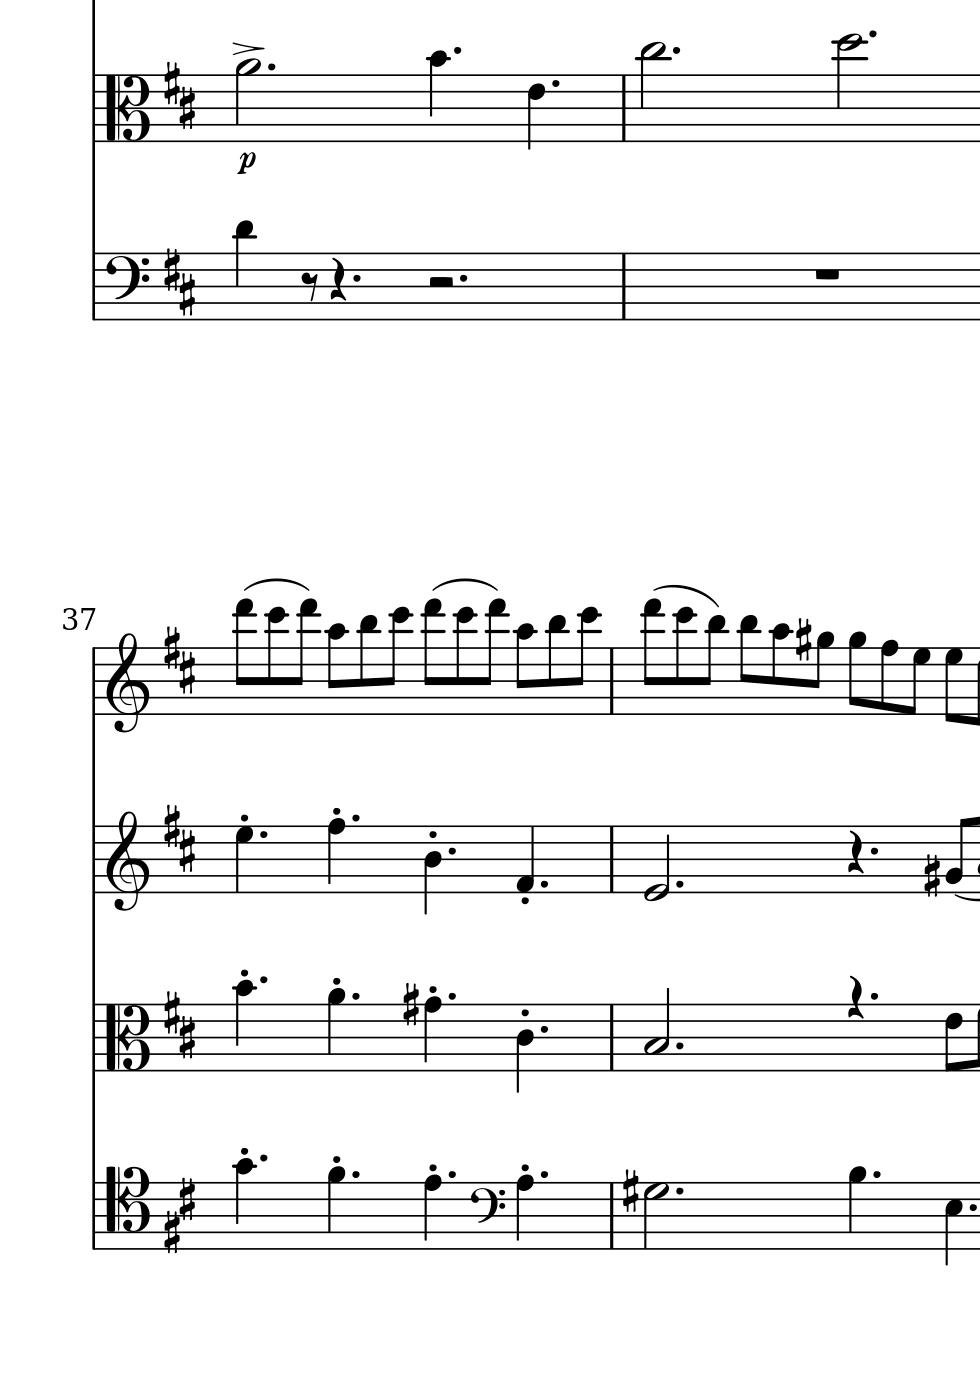2_0: (641, 823, 670, 902)
2_11: (636, 41, 667, 145)
2_12: (833, 31, 865, 145)
2_3: (643, 988, 670, 1073)
2_7: (641, 1180, 670, 1251)
2_9: (232, 57, 261, 142)
3: (60, 606, 78, 633)
4_1: (513, 824, 535, 895)
4_10: (232, 979, 256, 1073), (426, 49, 449, 142), (232, 1158, 255, 1251)
4_11: (232, 216, 256, 322)
4_4: (421, 825, 443, 916), (513, 1004, 533, 1095)
4_5: (942, 1180, 964, 1269)
4_6: (525, 72, 547, 153)
4_7: (234, 825, 253, 895)
4_8: (422, 995, 443, 1074), (421, 1173, 442, 1252), (325, 817, 346, 895), (513, 1173, 533, 1253)
4_9: (323, 1164, 346, 1251), (323, 986, 346, 1072), (846, 1164, 868, 1252)
7: (78, 606, 97, 633)
8_10: (325, 622, 348, 716), (770, 621, 792, 716), (514, 622, 536, 717)
8_11: (701, 613, 727, 716), (545, 614, 568, 716), (737, 614, 760, 716), (356, 614, 379, 716)
8_12: (384, 606, 413, 717), (573, 606, 601, 717), (453, 606, 477, 717), (672, 606, 697, 716), (265, 604, 288, 716)
8_13: (291, 596, 319, 715), (480, 599, 507, 715), (421, 596, 444, 717), (640, 598, 663, 716), (232, 598, 255, 716)
8_2: (944, 815, 972, 894)
8_6: (943, 1002, 964, 1074)
8_7: (905, 646, 931, 717), (942, 646, 963, 724)
8_8: (879, 638, 900, 717)
8_9: (808, 630, 835, 716), (846, 630, 867, 716)
Accent_above: (230, 40, 264, 56)
Cclef: (103, 72, 153, 144), (103, 1002, 150, 1072)
D_S: (160, 1176, 199, 1255), (161, 246, 198, 318), (161, 989, 198, 1062), (161, 622, 197, 696), (161, 801, 197, 874), (161, 60, 198, 131)
Fclef: (103, 251, 150, 323), (467, 1180, 505, 1250)
Gclef: (105, 809, 148, 912), (106, 630, 148, 734)
Rests1: (810, 264, 844, 284)
Rests2: (424, 274, 455, 292)
Rests4: (327, 256, 348, 301), (845, 973, 867, 1019), (845, 829, 865, 874)
Rests8: (299, 270, 320, 302)
Sharp: (920, 852, 942, 900), (620, 1168, 638, 1217), (794, 616, 812, 663), (401, 982, 419, 1028)
Single_barline: (85, 74, 102, 142), (85, 1004, 102, 1071), (85, 1183, 102, 1250), (615, 76, 632, 141), (615, 253, 631, 320), (603, 649, 619, 714), (603, 827, 619, 892), (603, 1005, 619, 1070), (603, 1183, 619, 1248), (86, 826, 101, 894), (86, 253, 101, 320), (86, 648, 101, 715)
Slur: (654, 583, 719, 608), (240, 577, 310, 592), (431, 577, 500, 592)
Tensor_Cclef: (103, 1164, 148, 1249)
dot: (256, 827, 269, 841), (257, 973, 270, 987), (669, 43, 682, 58), (456, 271, 470, 284), (445, 845, 459, 858), (868, 990, 881, 1003), (257, 1152, 269, 1165), (870, 1168, 882, 1181), (537, 1169, 550, 1181), (965, 1201, 978, 1215), (451, 45, 463, 57), (349, 812, 362, 825), (538, 877, 550, 890), (445, 990, 458, 1003), (538, 1023, 550, 1036), (672, 1039, 685, 1052), (549, 76, 561, 90), (673, 1185, 685, 1198), (867, 28, 878, 40), (265, 62, 277, 74), (868, 844, 879, 857), (673, 877, 685, 890), (349, 990, 361, 1003), (349, 1169, 361, 1181), (444, 1169, 457, 1180), (351, 271, 362, 284)
p: (234, 150, 257, 177)
